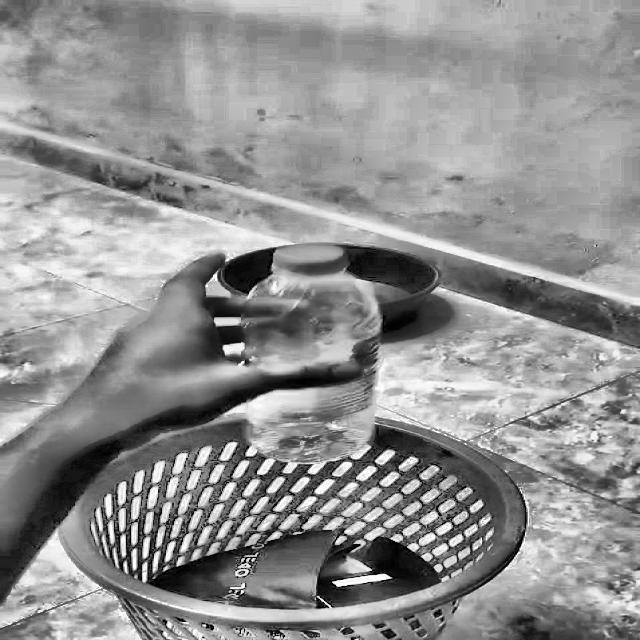Dustbin: (51, 405, 540, 640)
Empty: (50, 418, 533, 601)
Plastic-Bottle: (232, 248, 419, 476)
